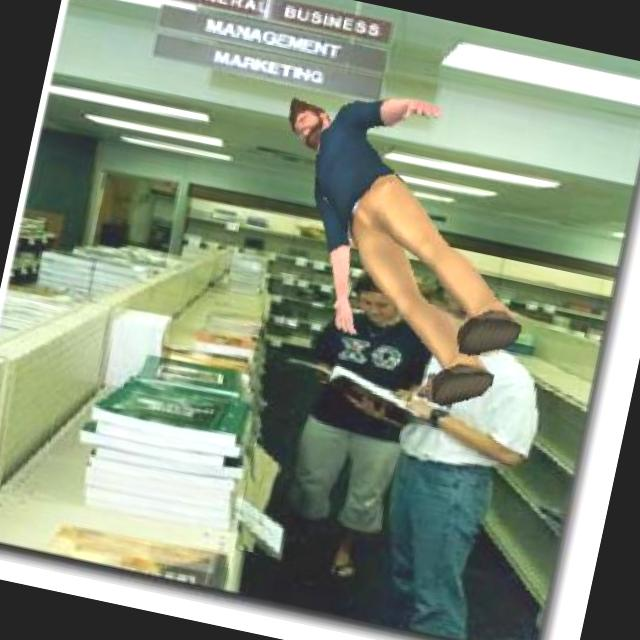Person: (231, 68, 566, 426)
